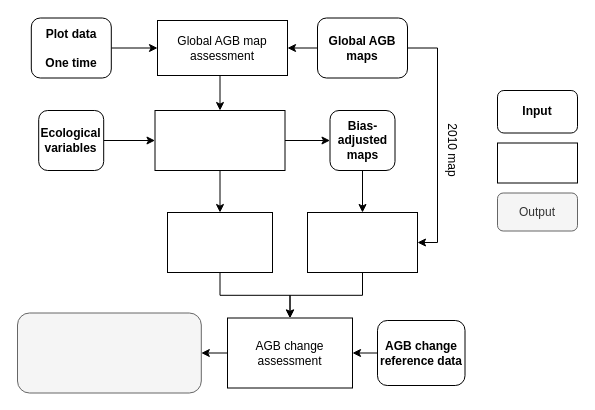
Image size: 595x410. Some labels were removed from this diagram. Each missing label, with the box of its shape:
2018-2010 AGB Carbon flux modelling: (306, 212, 418, 272)
2018-2010 AGB Stock differencing: (166, 212, 272, 272)
Spatial uncertainty modelling (bias and precision): (154, 110, 285, 170)
Step: (496, 142, 578, 183)
Users cases Carbon accounts 4 countries Climate and carbon model inputs: (16, 312, 201, 393)
